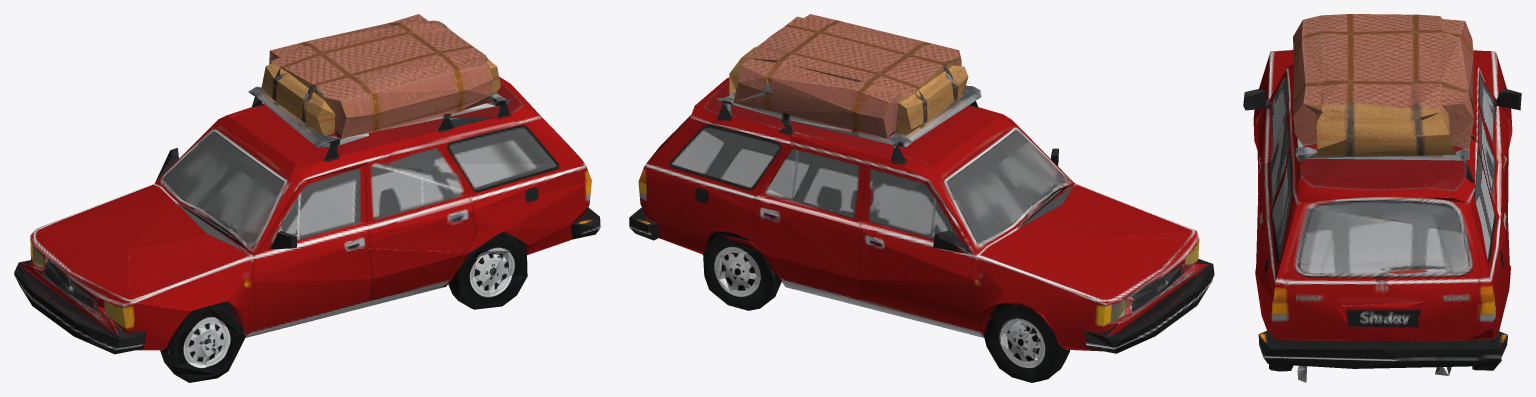
The model's file is car3.glb.
The picture shows the model from 3 angles, left to right: view 1: azimuth 30°, elevation 25°; view 2: azimuth 150°, elevation 25°; view 3: azimuth 270°, elevation 25°; orthographic projection. The views are drawn at different scales.
Size of the model in its own units: 1.9 by 0.8543 by 0.7894.
Materials: 1 (1 with a texture image).
